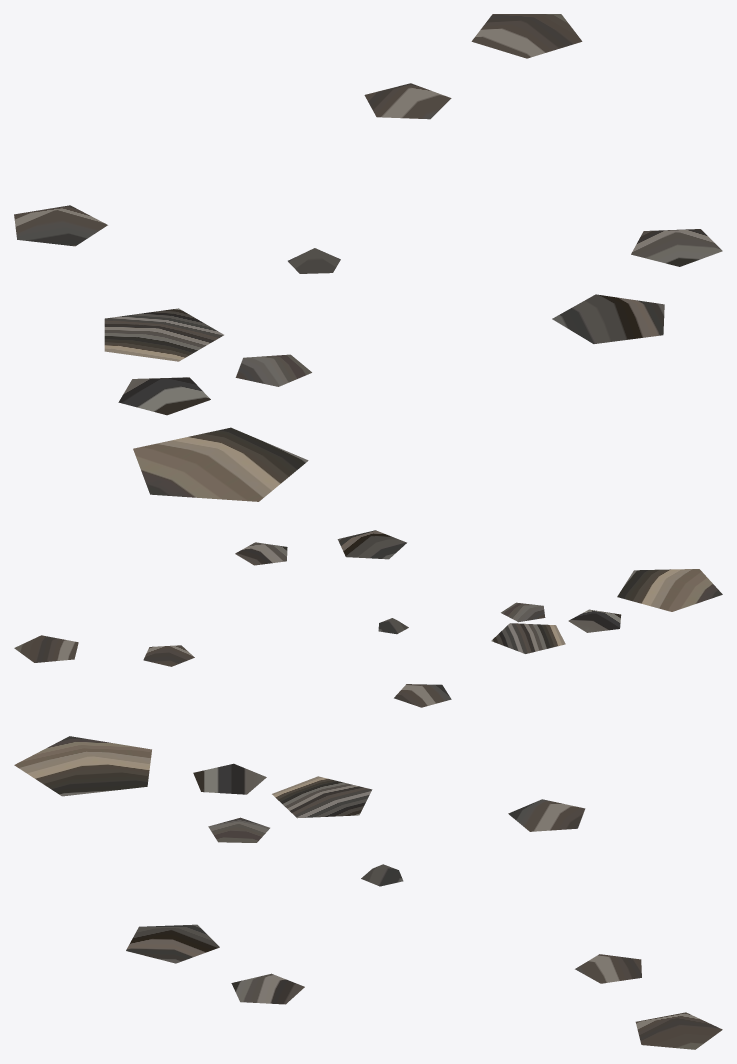
Rendered from rock_vfield3_hdtex.glb.
3 renders of one model, top to bottom at view 1: azimuth 30°, elevation 25°; view 2: azimuth 150°, elevation 25°; view 3: azimuth 270°, elevation 25°, orthographic. The views are drawn at different scales.
Visible parts, largest first — view 1: Rock_VField3; view 2: Rock_VField3; view 3: Rock_VField3.
Boxes of the visible parts, x1,y1,x2,y2 form: Rock_VField3: (14, 14, 722, 501); Rock_VField3: (14, 530, 722, 707); Rock_VField3: (14, 736, 722, 1049).
Size of the model in its own units: 21.98 by 0.6326 by 20.99.
1 material, 1 textured.
